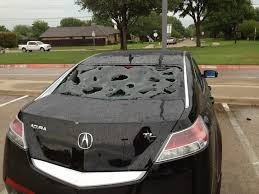Broken-glass: (50, 63, 185, 96)
Dent: (32, 133, 154, 169)
